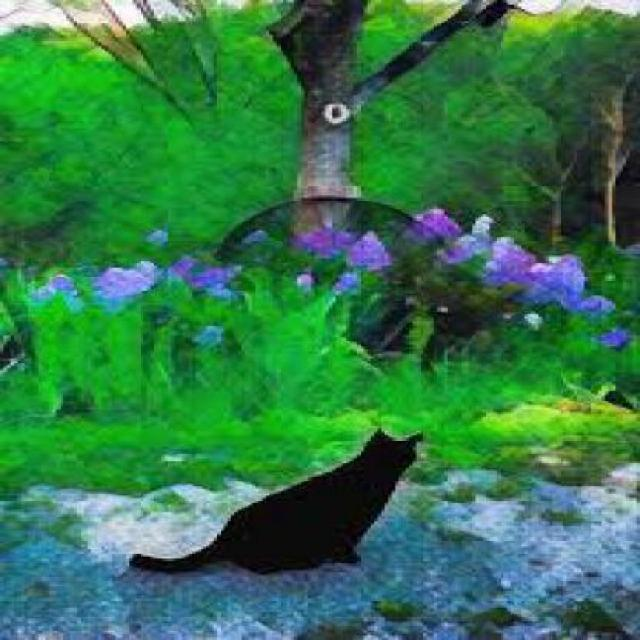animals: (95, 425, 438, 587)
